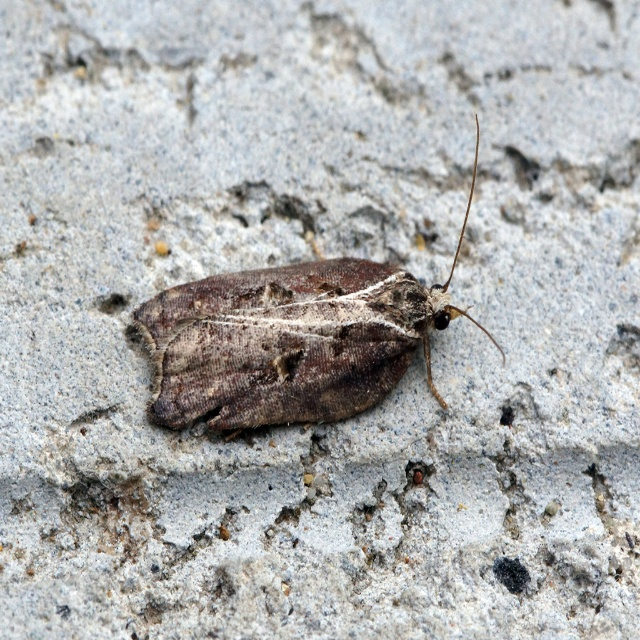Moths and butterflies: (127, 114, 506, 446)
